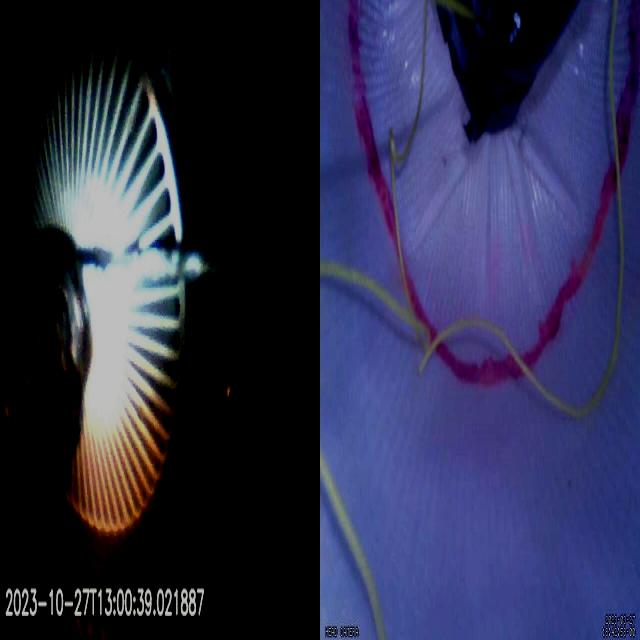red-circle: (346, 0, 640, 387)
